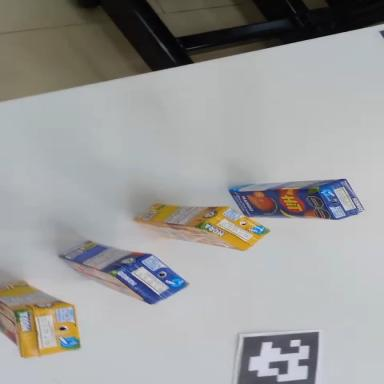HIT-MANGO: (55, 224, 193, 314), (229, 178, 364, 223)
HIT-MORA: (0, 273, 81, 362), (135, 203, 270, 252)
cara_F: (54, 257, 156, 305), (229, 189, 335, 221), (134, 222, 244, 251), (0, 301, 21, 358)
